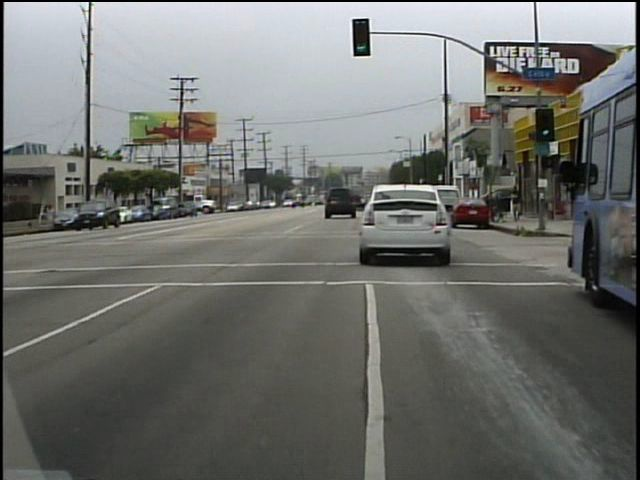person: (507, 181, 528, 229), (54, 202, 55, 229)
